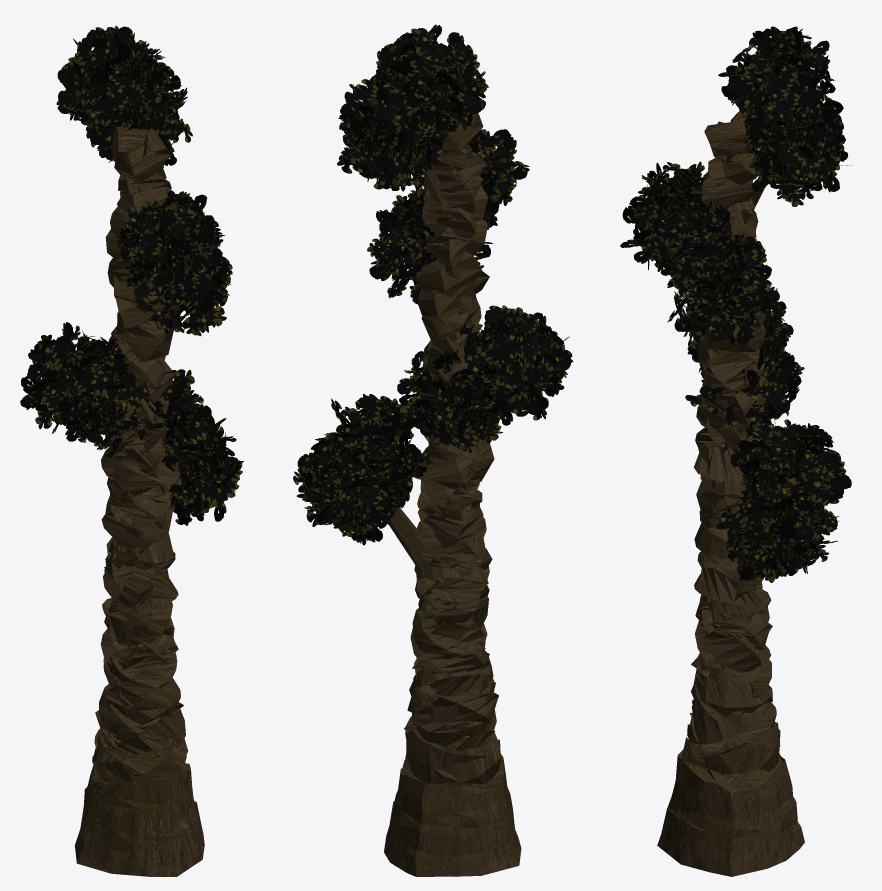
The model's file is deadwood_snag_v03_LOD1.fbx.
3 views of the same model, side by side, from view 1: azimuth 30°, elevation 25°; view 2: azimuth 150°, elevation 25°; view 3: azimuth 270°, elevation 25° (orthographic). The views are drawn at different scales.
Parts seen in each view (by area): view 1: deadwood_snag_v03_LOD1; view 2: deadwood_snag_v03_LOD1; view 3: deadwood_snag_v03_LOD1.
Boxes of the visible parts, left/top/right/bottom form: deadwood_snag_v03_LOD1: left=20, top=25, right=243, bottom=876; deadwood_snag_v03_LOD1: left=293, top=24, right=573, bottom=876; deadwood_snag_v03_LOD1: left=620, top=26, right=851, bottom=876.
Bounding box in the file's own units: 290 × 260 × 930.
Materials: 2 (2 with a texture image).
